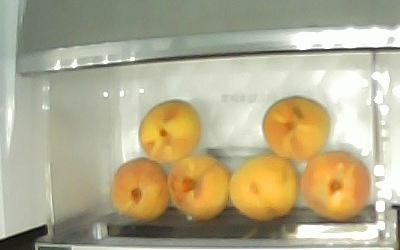peach: (302, 152, 370, 219), (229, 155, 300, 218), (263, 96, 331, 158), (110, 158, 170, 220), (167, 157, 229, 217), (140, 99, 199, 161)
